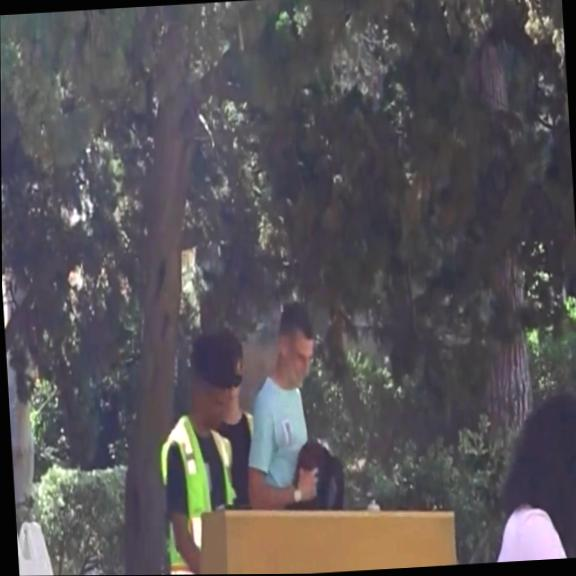safety_vest: (156, 409, 240, 575)
